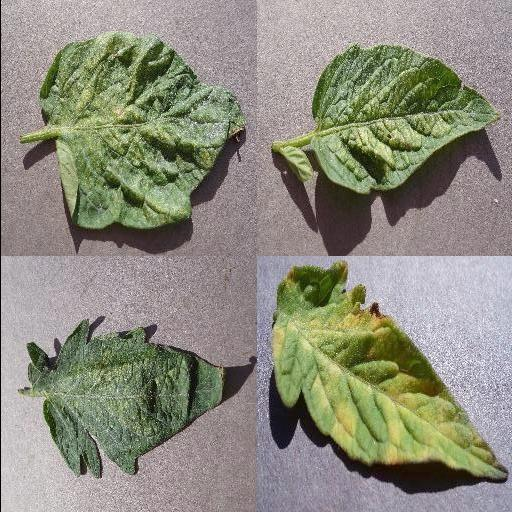Leaf Mold: (268, 262, 508, 480)
Spider Mites: (37, 32, 247, 231), (25, 320, 225, 478), (312, 43, 502, 193)
